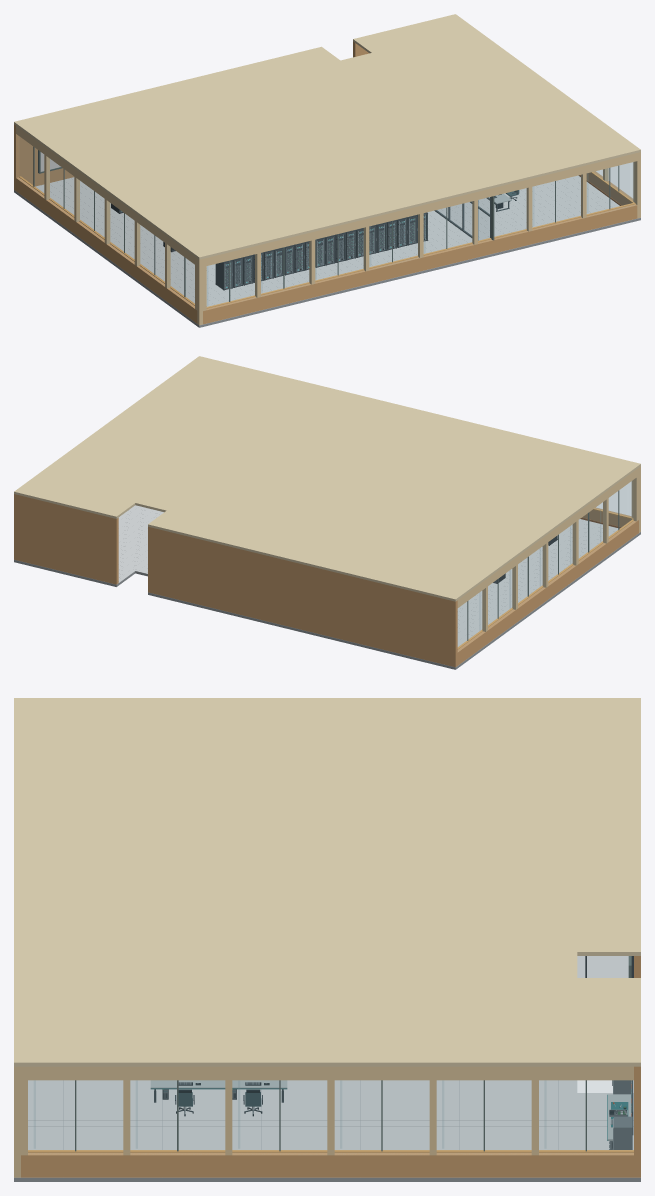
The model's file is server_room.glb.
3 views of the same model, one above another, from view 1: azimuth 30°, elevation 25°; view 2: azimuth 150°, elevation 25°; view 3: azimuth 270°, elevation 25° (orthographic). The views are drawn at different scales.
Visible parts, largest first — view 1: server_v12_ceiling_main, server_v12_floor_tiles_60x60, server_v12_wall_south_base, server_v12_ceiling_north_west, server_v12_wall_south_header, server_v12_wall_west_base, server_v12_window_south_03, server_v12_window_south_01, server_v12_window_south_07, server_v12_window_south_04, server_v12_window_south_02, server_v12_window_south_06 (+14 smaller); view 2: server_v12_ceiling_main, server_v12_wall_north_west, server_v12_floor_tiles_60x60, server_v12_wall_north_east, server_v12_ceiling_north_west, server_v12_wall_west_base, server_v12_ceiling_north_east, server_v12_wall_west_header, server_v12_window_west_03, server_v12_window_west_02, server_v12_window_west_05, server_v12_window_west_00 (+4 smaller); view 3: server_v12_ceiling_main, server_v12_floor_tiles_60x60, server_v12_ceiling_north_west, server_v12_wall_east_base, server_v12_wall_east_header, server_v12_window_east_03, server_v12_window_east_02, server_v12_window_east_05, server_v12_window_east_00, server_v12_window_east_01, server_v12_window_east_04, server_v12_ceiling_north_east (+6 smaller).
Boxes of the visible parts, x1,y1,x2,y2 form: server_v12_ceiling_main: [32, 28, 640, 259]; server_v12_floor_tiles_60x60: [14, 175, 640, 325]; server_v12_wall_south_base: [203, 204, 637, 324]; server_v12_ceiling_north_west: [14, 46, 340, 137]; server_v12_wall_south_header: [203, 153, 637, 266]; server_v12_wall_west_base: [16, 177, 197, 323]; server_v12_window_south_03: [369, 215, 419, 269]; server_v12_window_south_01: [261, 241, 310, 296]; server_v12_window_south_07: [587, 162, 635, 216]; server_v12_window_south_04: [424, 202, 473, 254]; server_v12_window_south_02: [315, 228, 365, 280]; server_v12_window_south_06: [532, 175, 581, 228]; server_v12_ceiling_main: [33, 356, 640, 587]; server_v12_wall_north_west: [148, 526, 457, 667]; server_v12_floor_tiles_60x60: [14, 505, 640, 667]; server_v12_wall_north_east: [14, 494, 118, 584]; server_v12_ceiling_north_west: [148, 510, 474, 601]; server_v12_wall_west_base: [457, 520, 638, 665]; server_v12_ceiling_north_east: [14, 478, 135, 518]; server_v12_wall_west_header: [457, 468, 638, 607]; server_v12_window_west_03: [518, 546, 545, 603]; server_v12_window_west_02: [548, 524, 575, 581]; server_v12_window_west_05: [458, 589, 485, 651]; server_v12_window_west_00: [609, 480, 634, 538]; server_v12_ceiling_main: [14, 698, 577, 1066]; server_v12_floor_tiles_60x60: [14, 956, 640, 1177]; server_v12_ceiling_north_west: [577, 698, 640, 955]; server_v12_wall_east_base: [21, 1152, 633, 1177]; server_v12_wall_east_header: [21, 1066, 633, 1080]; server_v12_window_east_03: [335, 1080, 429, 1154]; server_v12_window_east_02: [232, 1080, 326, 1154]; server_v12_window_east_05: [539, 1080, 633, 1154]; server_v12_window_east_00: [28, 1080, 122, 1154]; server_v12_window_east_01: [130, 1080, 224, 1154]; server_v12_window_east_04: [437, 1080, 531, 1154]; server_v12_ceiling_north_east: [577, 978, 640, 1066].
Size of the model in its own units: 36.6 by 5.58 by 26.6.
